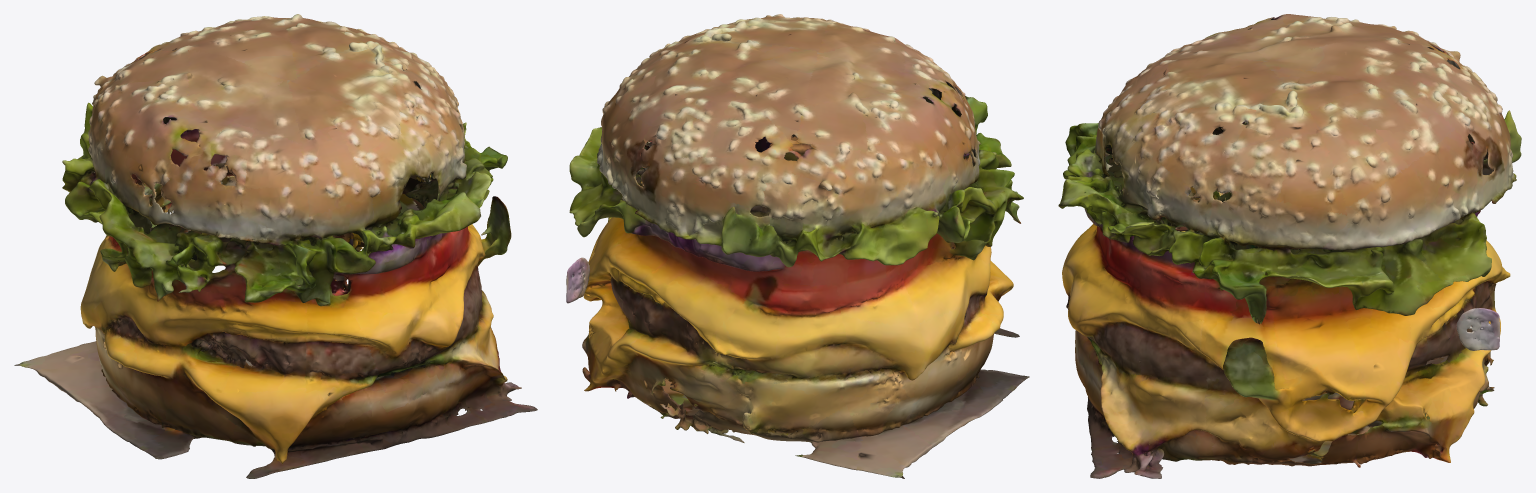
Rendered from Cheese_Burger.glb.
3 views of the same model, side by side, from view 1: azimuth 30°, elevation 25°; view 2: azimuth 150°, elevation 25°; view 3: azimuth 270°, elevation 25° (orthographic). The views are drawn at different scales.
Size of the model in its own units: 1.99 by 1.57 by 1.93.
1 material, 1 textured.
